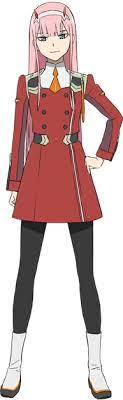zeroTwo: (23, 1, 86, 64)
